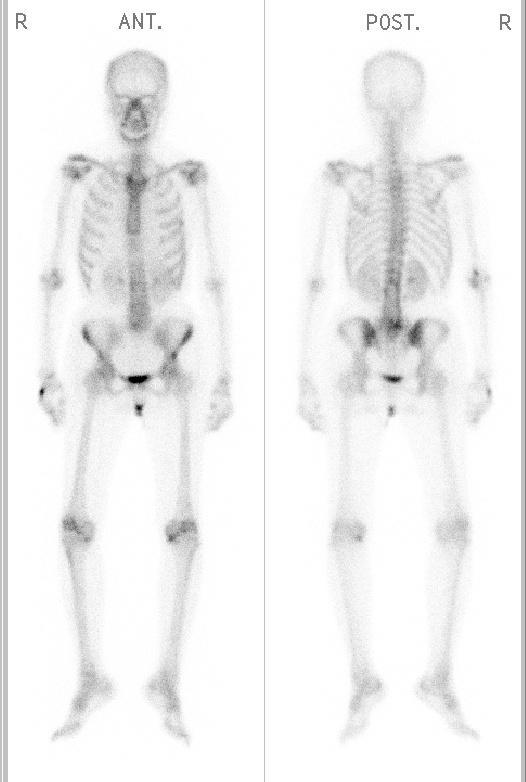person: (7, 1, 522, 782)
